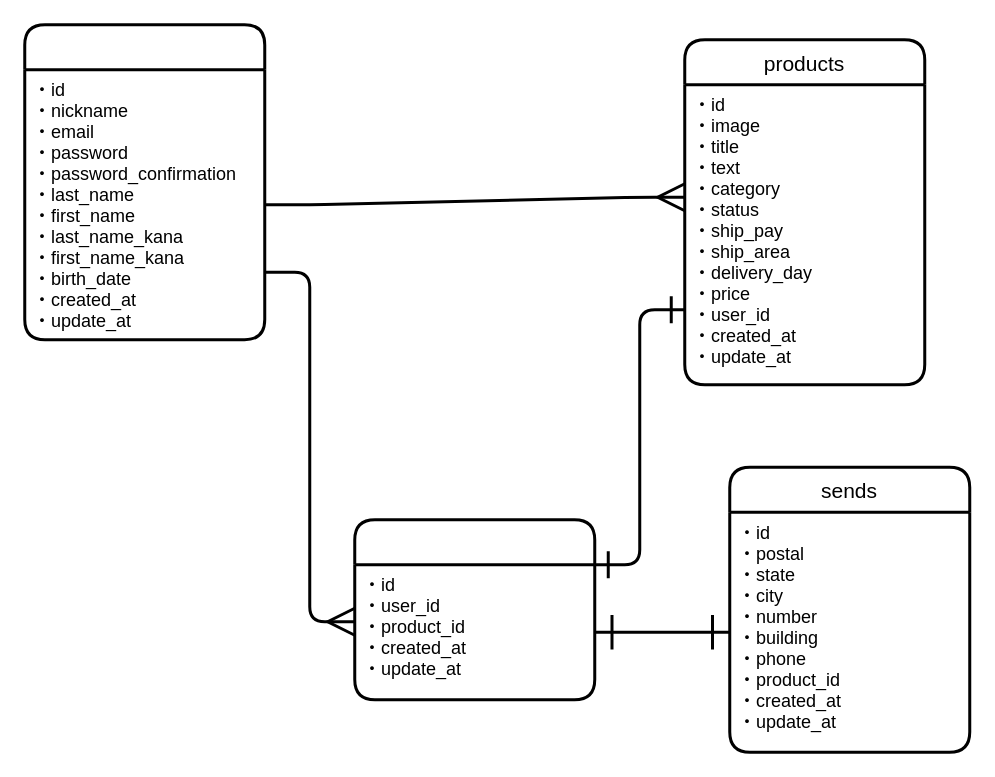
Image size: 995x777. Some labels were removed from this diagram. Each missing label, with the box of its shape:
orders: (352, 518, 596, 700)
users: (22, 22, 266, 340)
